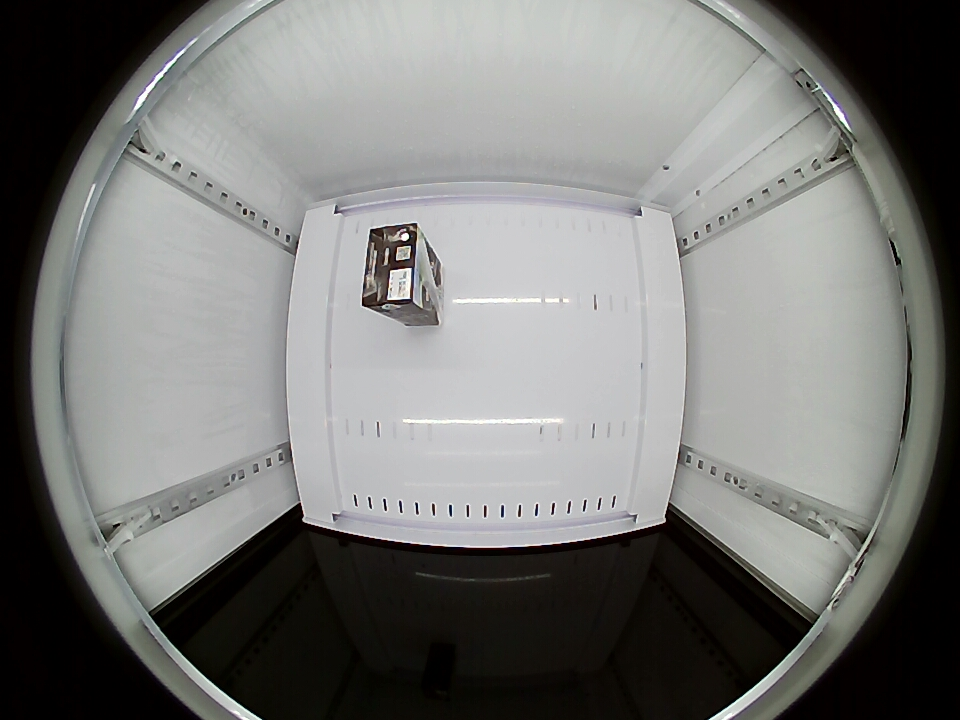weitanai2: (363, 223, 433, 319)
